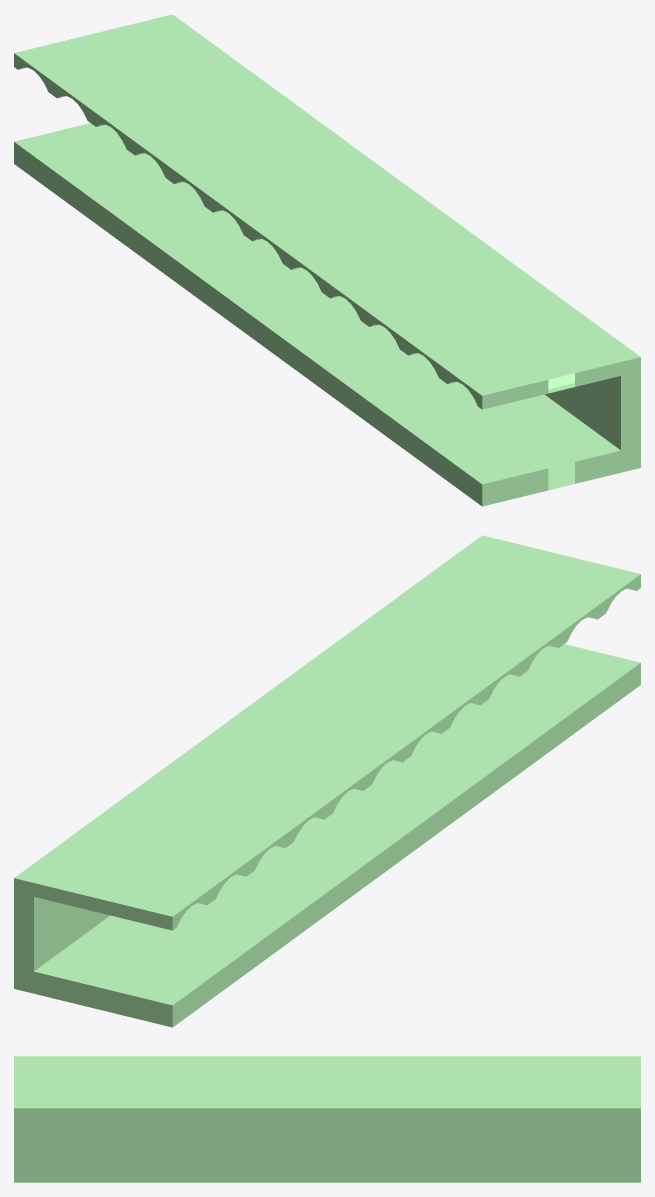
The model's file is zatana_terra_base_vis_122.dae.
3 views of the same model, one above another, from view 1: azimuth 30°, elevation 25°; view 2: azimuth 150°, elevation 25°; view 3: azimuth 270°, elevation 25° (orthographic). The views are drawn at different scales.
Visible parts, largest first — view 1: Node_000002318374B5A0; view 2: Node_000002318374B5A0; view 3: Node_000002318374B5A0.
Part boxes in pixels (x1,y1,x2,y2): Node_000002318374B5A0: (14, 14, 640, 506); Node_000002318374B5A0: (14, 535, 640, 1027); Node_000002318374B5A0: (14, 1056, 640, 1182).
Size of the model in its own units: 0.012 by 0.008 by 0.0613.
